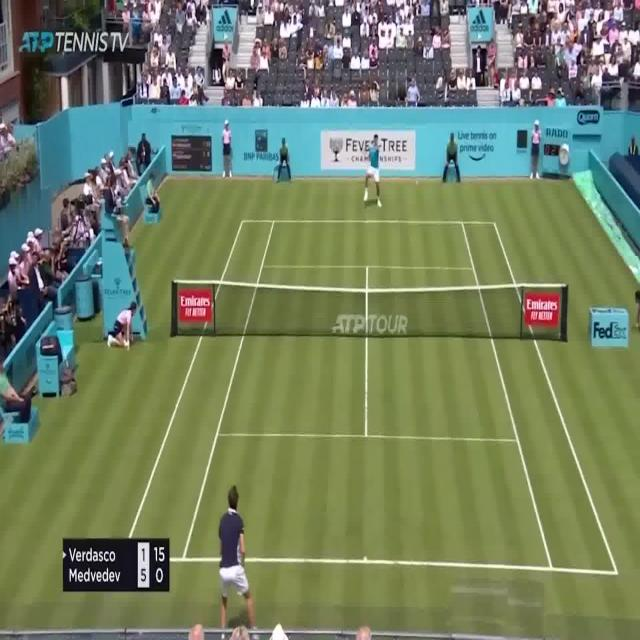bottom-dead-zone: (183, 434, 553, 571)
court: (121, 218, 618, 576)
left-doubles-alley: (122, 220, 274, 558)
left-service-box: (216, 264, 368, 435)
net: (169, 277, 570, 345)
right-doubles-alley: (461, 220, 618, 575)
right-service-box: (365, 264, 521, 443)
top-dead-zone: (261, 220, 475, 269)
